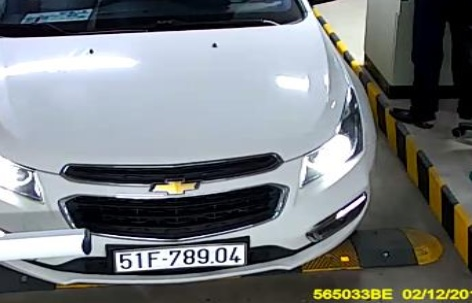plate: (113, 248, 246, 271)
